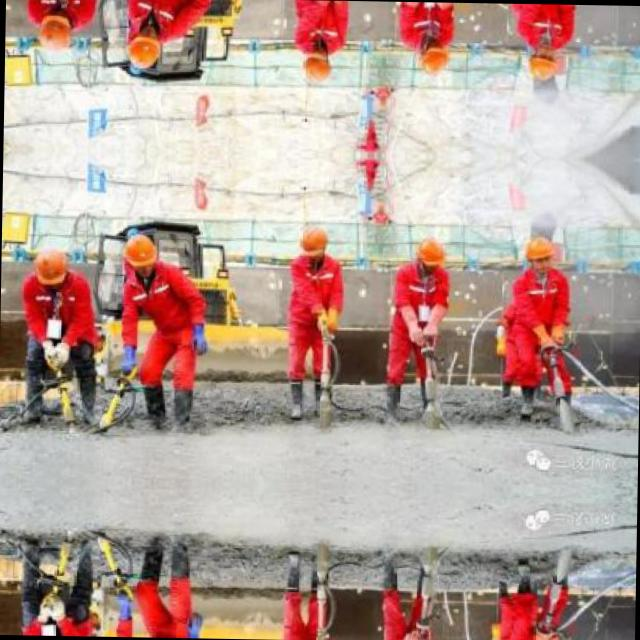helmet: (119, 230, 158, 278), (122, 24, 161, 72), (32, 244, 72, 285), (522, 46, 564, 85), (520, 230, 560, 270), (36, 14, 76, 54), (411, 234, 449, 274), (414, 38, 452, 77), (295, 222, 330, 261), (298, 47, 333, 86)
